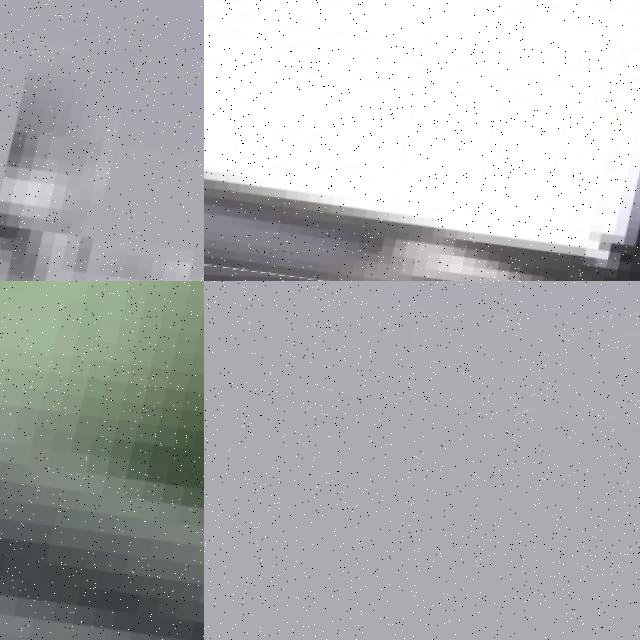0: (0, 0, 204, 281)
drone: (204, 0, 640, 281), (0, 281, 204, 640)
